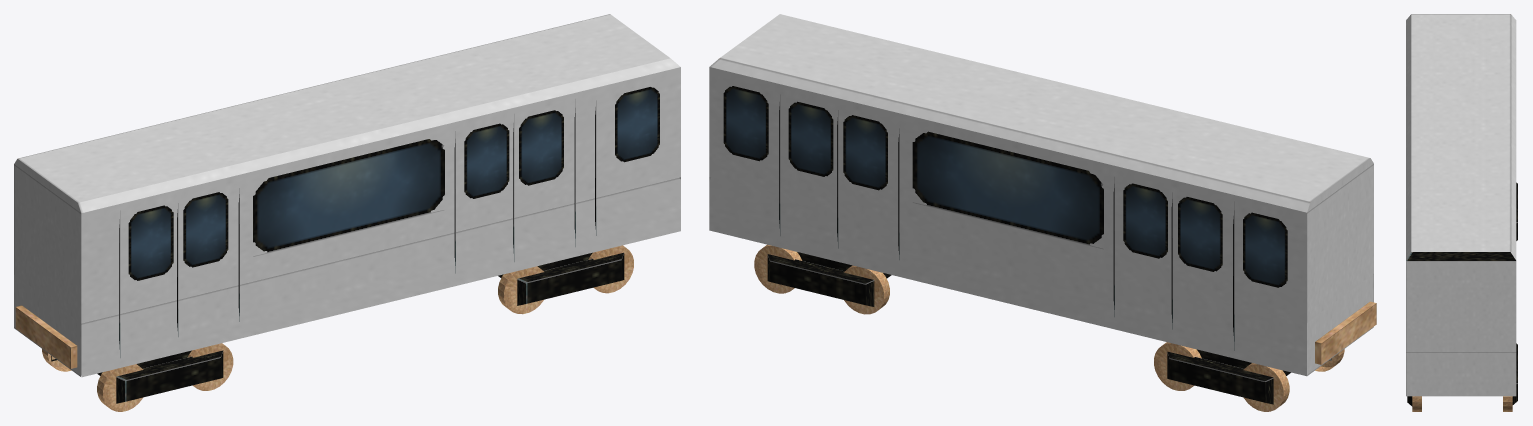
File: subway_b.fbx
3 views of the same model, side by side, from view 1: azimuth 30°, elevation 25°; view 2: azimuth 150°, elevation 25°; view 3: azimuth 270°, elevation 25° (orthographic). The views are drawn at different scales.
Parts seen in each view (by area): view 1: cuboid, plane_12, cuboid_9, cuboid_3, plane_8, plane_3, plane_2, plane_9, plane, cube, cylinder, cylinder_4 (+2 smaller); view 2: cuboid, plane_13, cuboid_4, cuboid_10, plane_29, plane_15, plane_20, plane_30, plane_16, plane_21, cube, cylinder_7 (+3 smaller); view 3: cuboid, cylinder_1, cylinder_3, cuboid_4.
Boxes of the visible parts, x1,y1,x2,y2 form: cuboid: (14, 14, 680, 377); plane_12: (253, 139, 444, 256); cuboid_9: (116, 350, 223, 403); cuboid_3: (517, 252, 624, 305); plane_8: (464, 123, 509, 198); plane_3: (183, 192, 228, 267); plane_2: (128, 205, 173, 280); plane_9: (519, 110, 563, 185); plane: (615, 87, 659, 162); cube: (15, 305, 77, 368); cylinder: (498, 266, 543, 314); cylinder_4: (97, 364, 143, 411); cuboid: (709, 14, 1373, 376); plane_13: (912, 131, 1103, 249); cuboid_4: (767, 254, 874, 306); cuboid_10: (1167, 351, 1273, 404); plane_29: (723, 86, 768, 161); plane_15: (788, 101, 833, 176); plane_20: (1123, 183, 1167, 258); plane_30: (1243, 212, 1287, 287); plane_16: (843, 115, 887, 190); plane_21: (1178, 197, 1222, 271); cube: (1315, 301, 1376, 364); cylinder_7: (1243, 363, 1289, 411); cuboid: (1406, 14, 1516, 396); cylinder_1: (1412, 396, 1421, 411); cylinder_3: (1503, 396, 1512, 411); cuboid_4: (1512, 343, 1517, 404).
Size of the model in its own units: 1106 by 384 by 219.
1 material, 1 textured.
